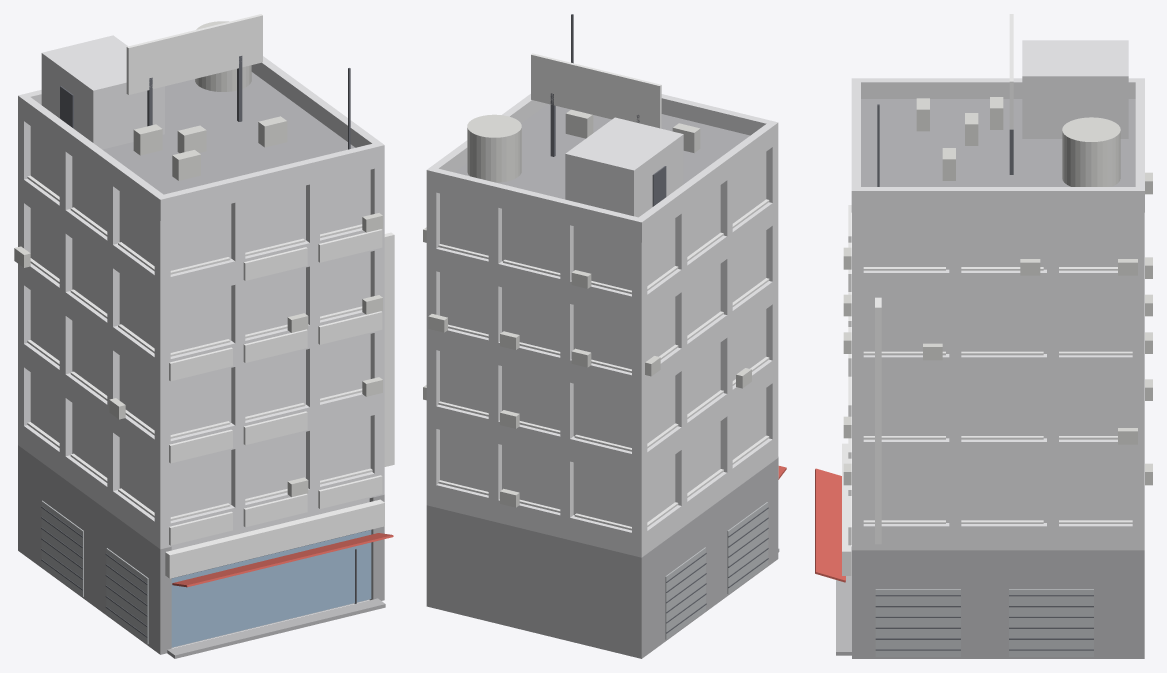
Rendered from bldg_4.glb.
3 renders of one model, left to right at view 1: azimuth 30°, elevation 25°; view 2: azimuth 150°, elevation 25°; view 3: azimuth 270°, elevation 25°, orthographic. The views are drawn at different scales.
Visible parts, largest first — view 1: building; view 2: building; view 3: building.
Boxes of the visible parts, <box> form: building: <box>14,14,394,658</box>; building: <box>423,14,786,658</box>; building: <box>815,14,1152,658</box>.
Size of the model in its own units: 11.26 by 23 by 12.69.
